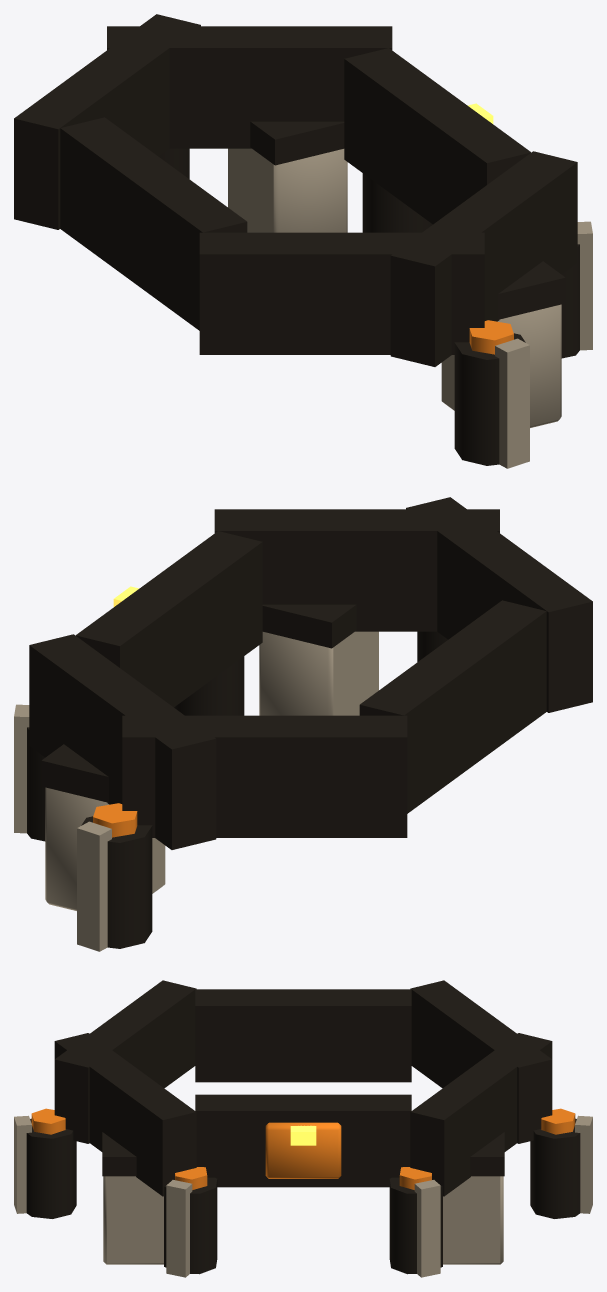
The model's file is granadero_cinturon.glb.
3 views of the same model, one above another, from view 1: azimuth 30°, elevation 25°; view 2: azimuth 150°, elevation 25°; view 3: azimuth 270°, elevation 25° (orthographic). The views are drawn at different scales.
Parts seen in each view (by area): view 1: granadero_cinturon; view 2: granadero_cinturon; view 3: granadero_cinturon.
Boxes of the visible parts, <box> form: granadero_cinturon: <box>14,14,592,468</box>; granadero_cinturon: <box>14,497,592,951</box>; granadero_cinturon: <box>14,980,592,1277</box>.
Bounding box in the file's own units: 0.3292 × 0.169 × 0.5355.
